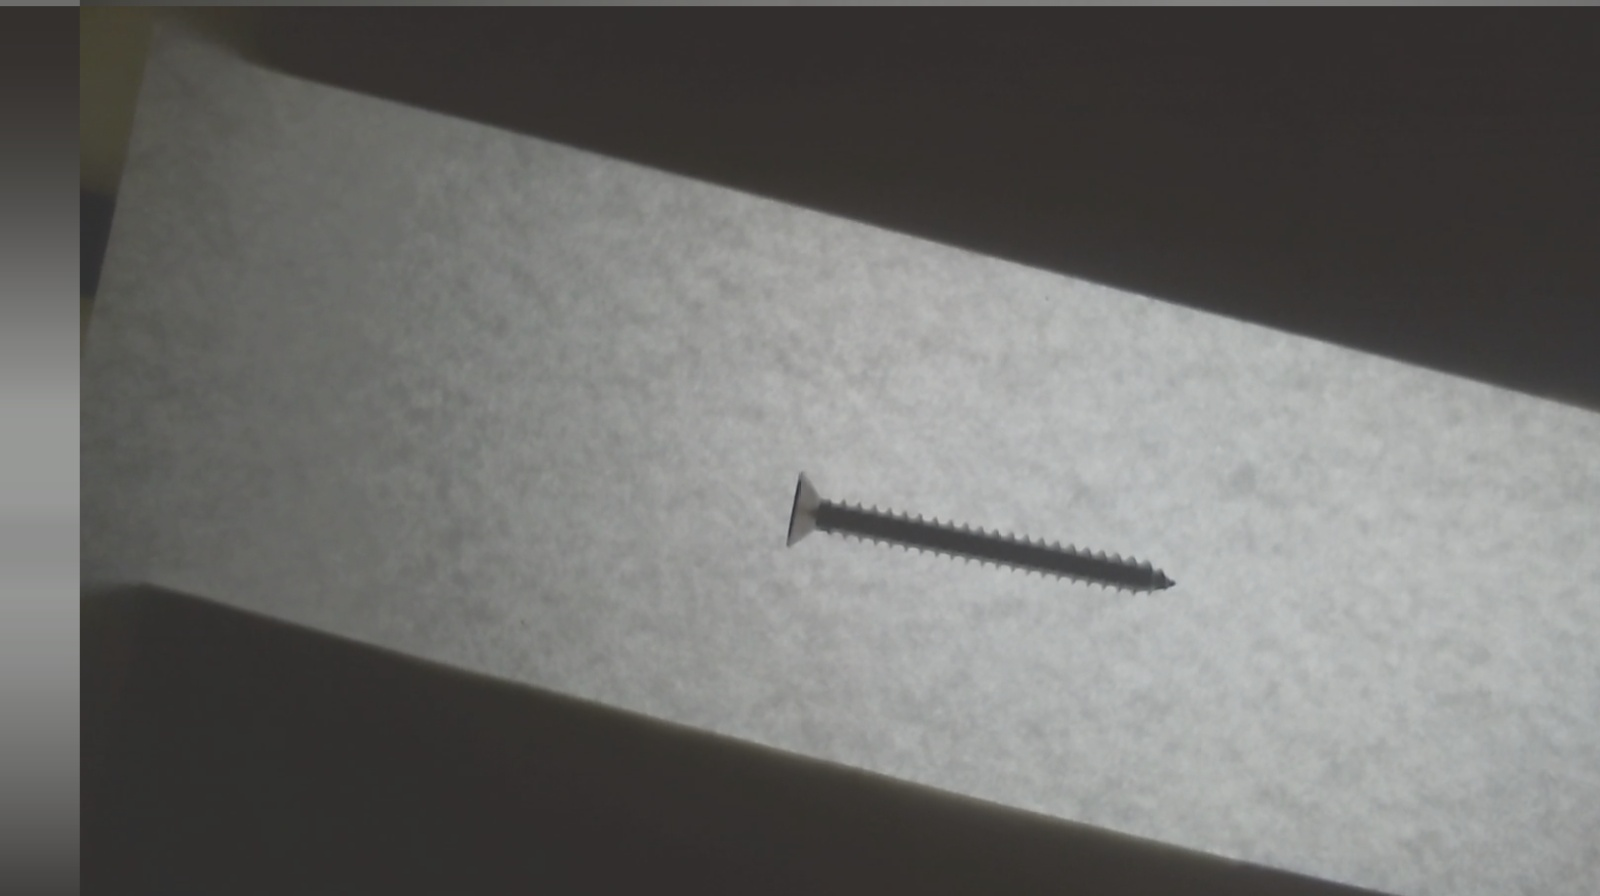S002: (777, 469, 1181, 601)
